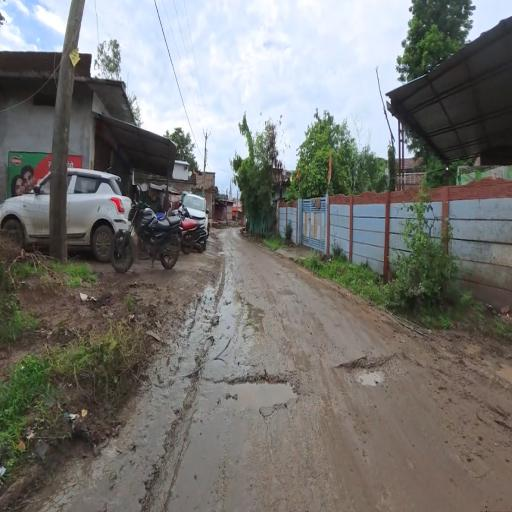pothole: (216, 339, 306, 439), (340, 334, 395, 418)
